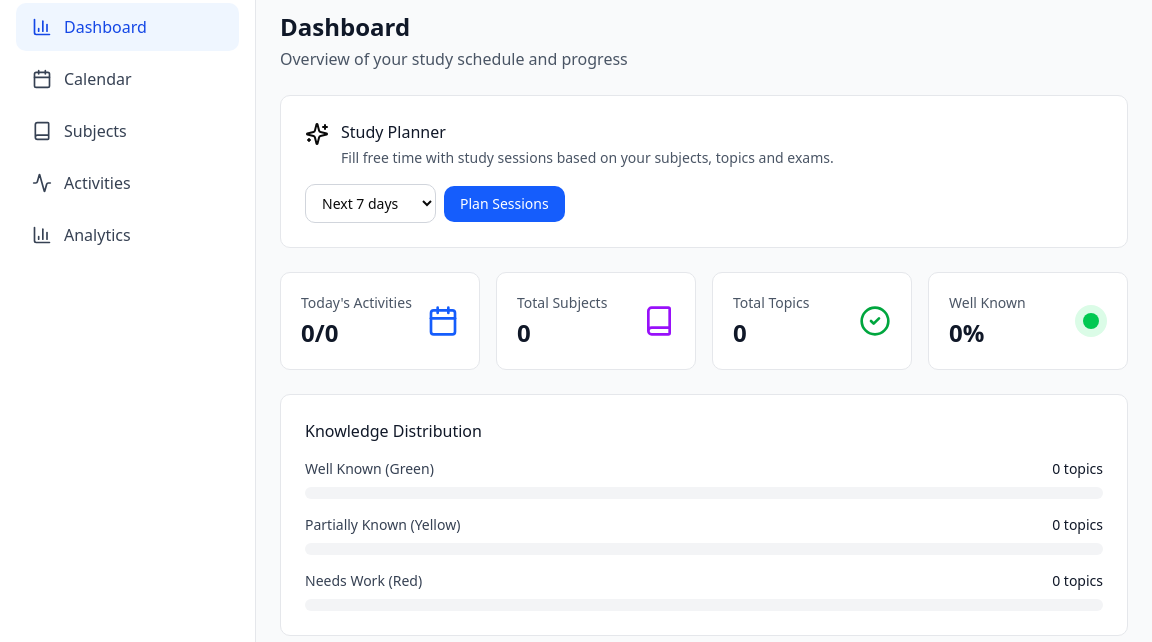
Test case: CalendarView › shows activities of other weeks after navigating there
The image size is (1152, 642).
Expected: the heading "Dashboard" is shown, top-left (280, 10), bottom-right (410, 43)
Click the button "Calendar": (128, 79) top-left (16, 55), bottom-right (239, 103)
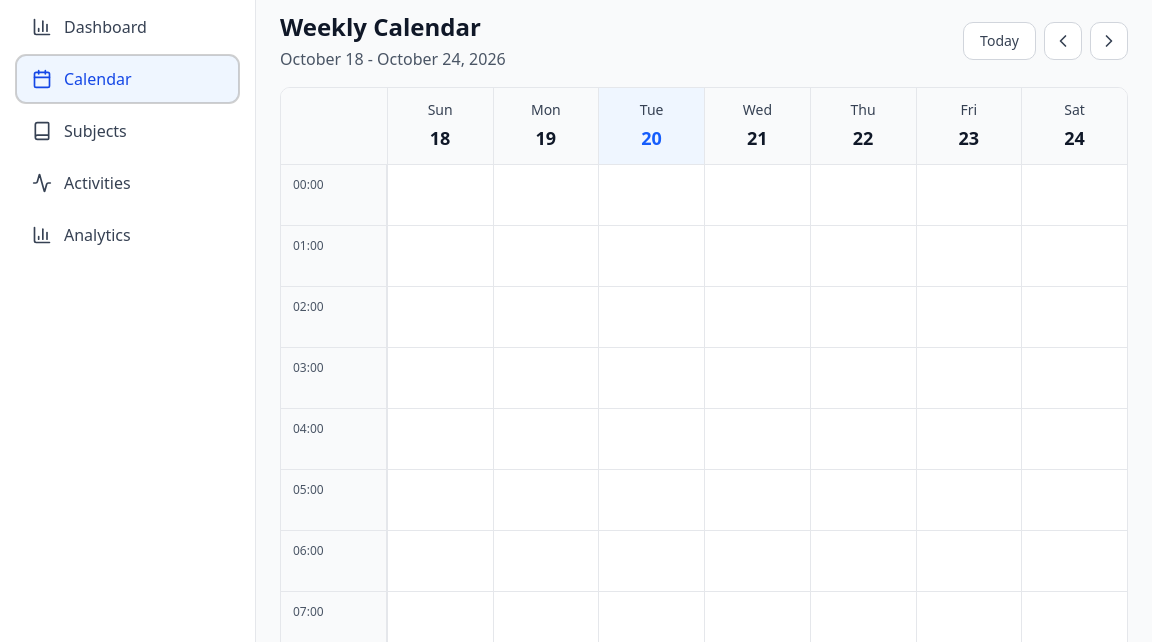
Expected: the text "Next week task" is not shown
Click the button named "Next week": (1109, 41) top-left (1090, 22), bottom-right (1128, 60)
(page scrolled)
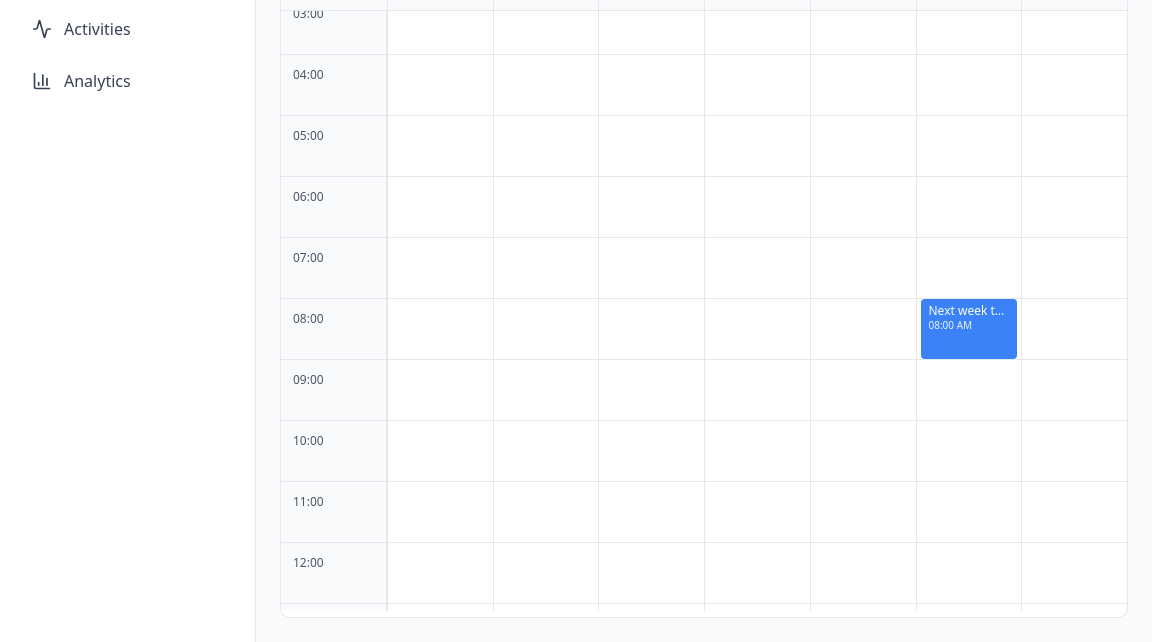
Expected: the text "Next week task" is shown, top-left (928, 303), bottom-right (1009, 319)
